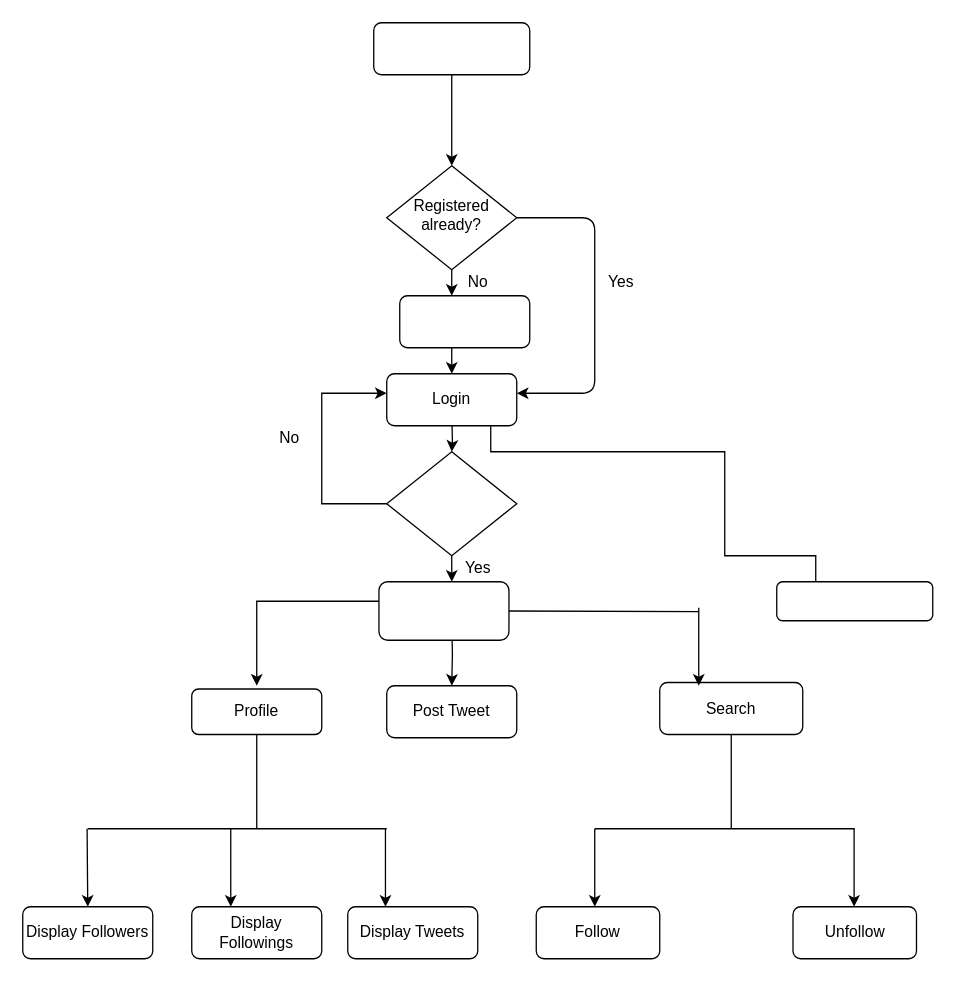
The diagram is 955 pixels wide and 981 high, and some of its shapes have lost their labels. The box of each missing label's shape, as (x1, y1, x2, y2) in pixels:
Home: (378, 580, 509, 640)
Launch Page: (372, 21, 530, 75)
Log out: (775, 580, 933, 621)
Register: (398, 294, 530, 348)
Valid credentials?: (385, 450, 517, 556)
